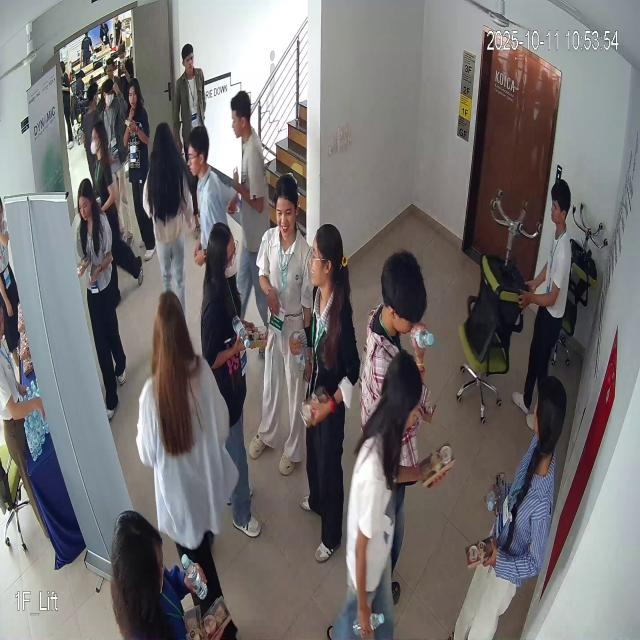face: (274, 161, 305, 245)
